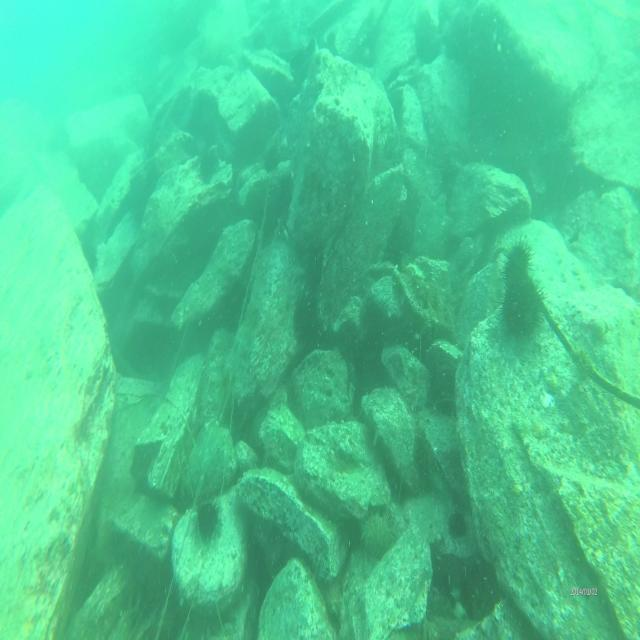echinus: (495, 279, 547, 342), (358, 507, 401, 564), (501, 232, 535, 284), (192, 498, 225, 544), (442, 509, 472, 546), (199, 150, 217, 182), (261, 146, 283, 172)
holothurian: (337, 442, 366, 474), (573, 344, 597, 382), (407, 261, 425, 278)
